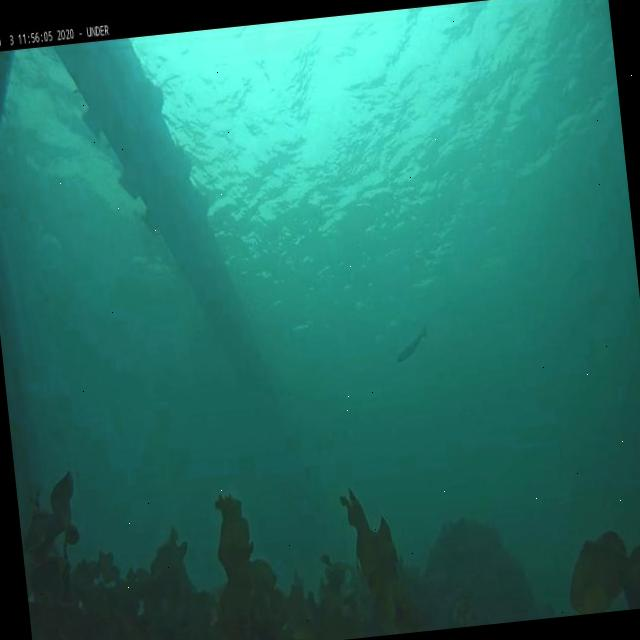fish: (393, 326, 429, 364)
